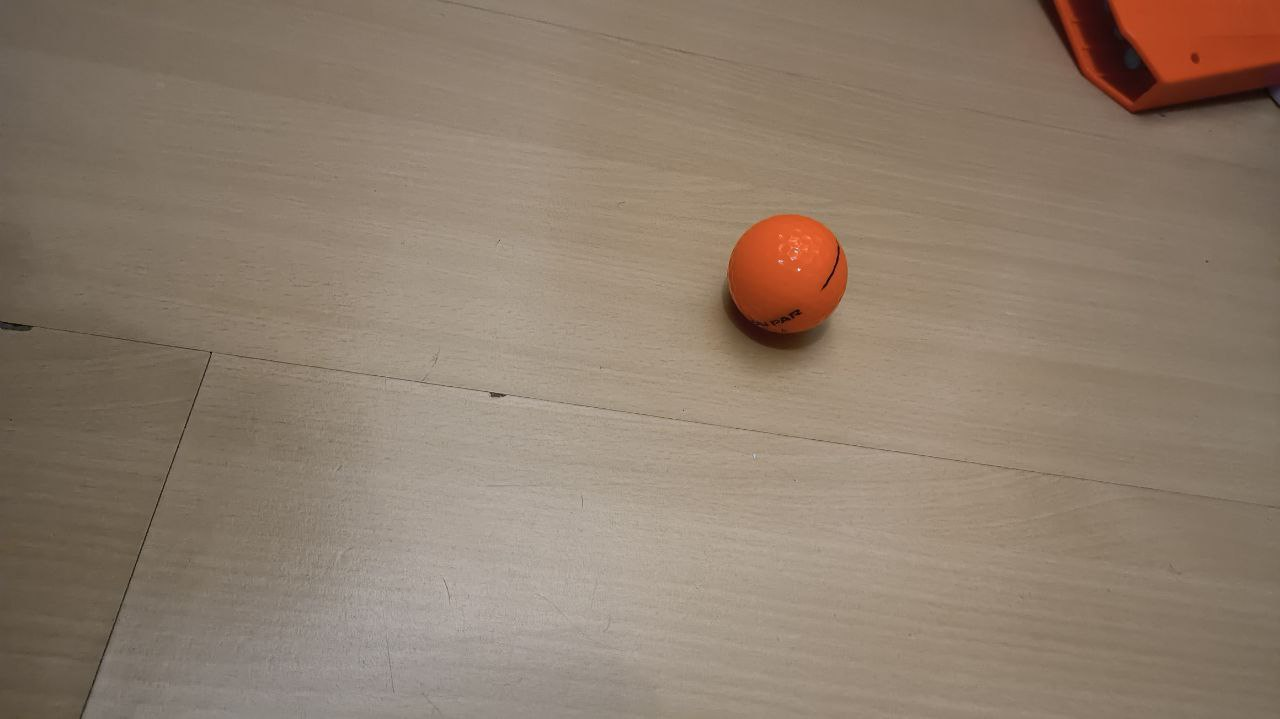orange_ball: (727, 214, 849, 334)
